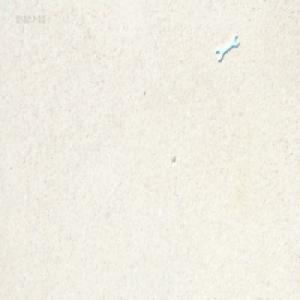Wrench: (212, 36, 237, 64)
